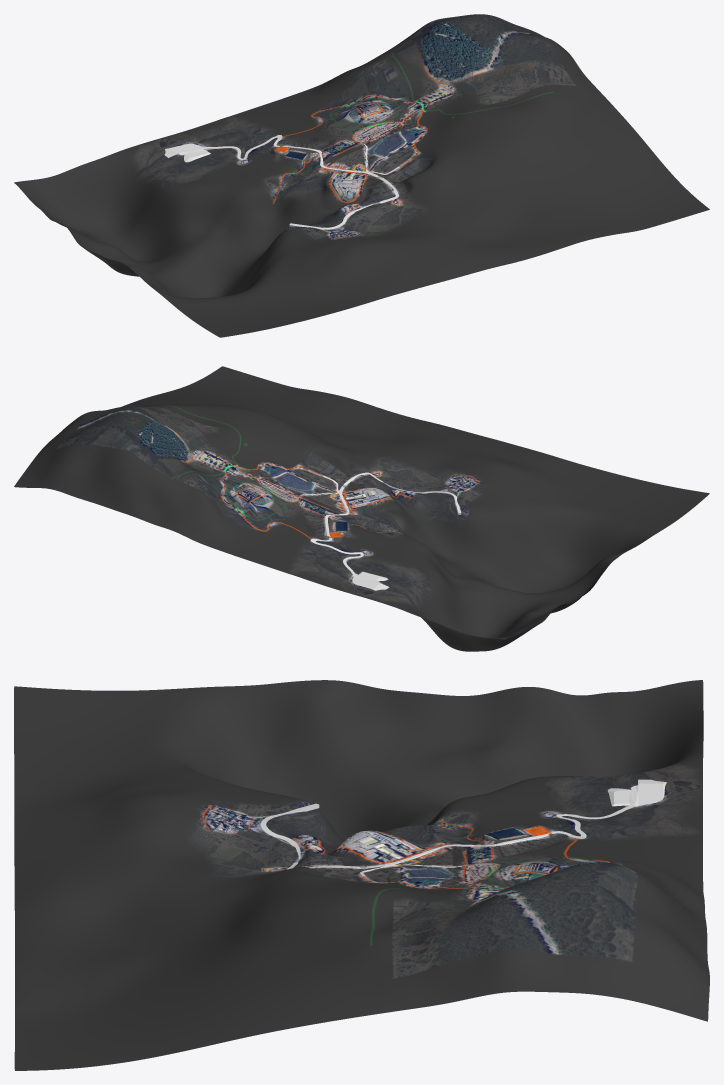
The model's file is EntornoBase_24_03_29.fbx.
3 renders of one model, top to bottom at view 1: azimuth 30°, elevation 25°; view 2: azimuth 150°, elevation 25°; view 3: azimuth 270°, elevation 25°, orthographic. The views are drawn at different scales.
Visible parts, largest first — view 1: Plane, Cube; view 2: Plane, Cube; view 3: Plane, Cube, Cube.002.
Boxes of the visible parts, x1=… form: Plane: x1=14, y1=14, x2=709, y2=337; Cube: x1=178, y1=135, x2=398, y2=229; Plane: x1=14, y1=366, x2=709, y2=651; Cube: x1=310, y1=472, x2=461, y2=582; Plane: x1=14, y1=680, x2=709, y2=1070; Cube: x1=260, y1=785, x2=638, y2=869; Cube.002: x1=638, y1=779, x2=666, y2=805.
Bounding box in the file's own units: 49951 × 14092 × 36295.
